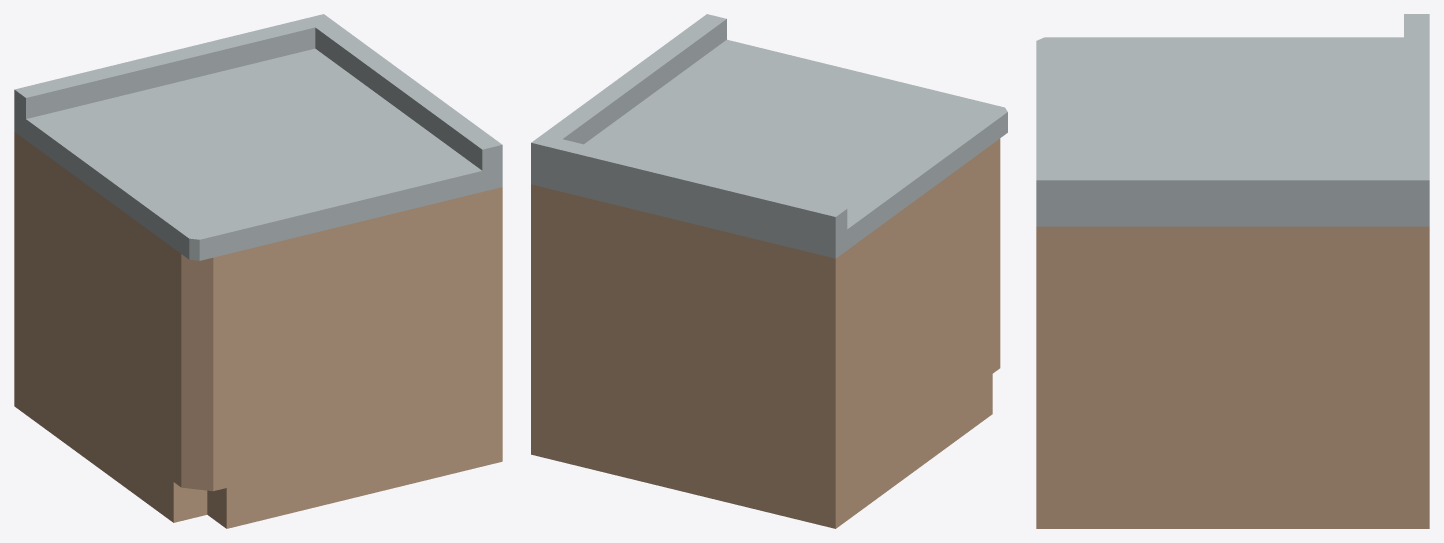
File: kitchenCabinetCornerInner.glb
3 renders of one model, left to right at view 1: azimuth 30°, elevation 25°; view 2: azimuth 150°, elevation 25°; view 3: azimuth 270°, elevation 25°, orthographic. The views are drawn at different scales.
Parts seen in each view (by area): view 1: kitchenCabinetCornerInner; view 2: kitchenCabinetCornerInner; view 3: kitchenCabinetCornerInner.
Boxes of the visible parts, left/top/right/bottom form: kitchenCabinetCornerInner: left=14, top=14, right=502, bottom=528; kitchenCabinetCornerInner: left=531, top=14, right=1007, bottom=528; kitchenCabinetCornerInner: left=1036, top=14, right=1429, bottom=528.
Bounding box in the file's own units: 0.46 × 0.45 × 0.46.
